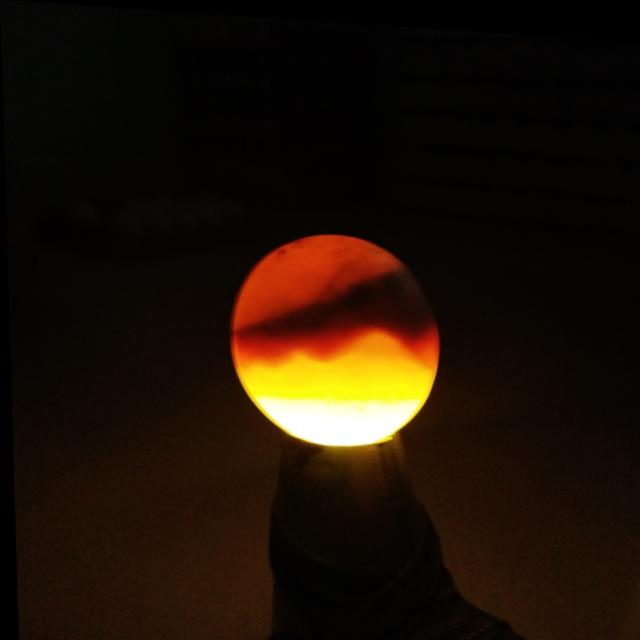Area Infectada: (234, 263, 434, 334)
